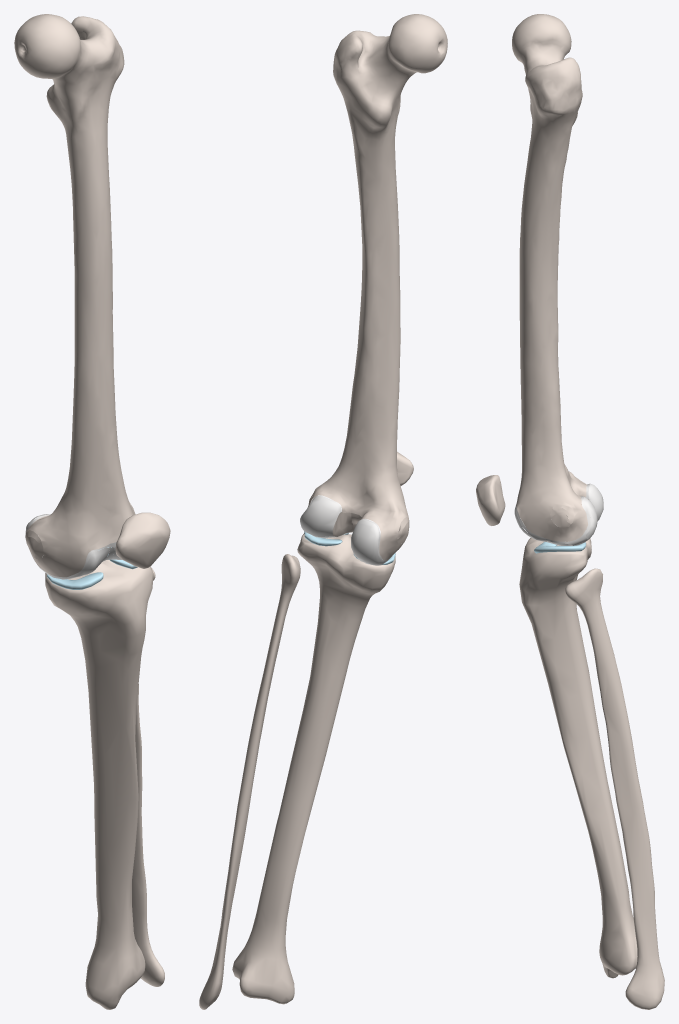
File: leg_l.glb
3 views of the same model, side by side, from view 1: azimuth 30°, elevation 25°; view 2: azimuth 150°, elevation 25°; view 3: azimuth 270°, elevation 25° (orthographic). The views are drawn at different scales.
Parts seen in each view (by area): view 1: VH_M_femur_L, VH_M_tibia_L, VH_M_fibula_L, VH_M_patella_L, VH_M_meniscus_L; view 2: VH_M_femur_L, VH_M_tibia_L, VH_M_fibula_L, VH_M_lateral_condyle_of_femur_inf_L, VH_M_medial_condyle_of_left_femur_inf; view 3: VH_M_femur_L, VH_M_tibia_L, VH_M_fibula_L, VH_M_patella_L, VH_M_articular_cartilage_of_knee_L.
Boxes of the visible parts, x1,y1,x2,y2 form: VH_M_femur_L: [14, 14, 135, 577]; VH_M_tibia_L: [45, 560, 153, 1009]; VH_M_fibula_L: [132, 568, 164, 986]; VH_M_patella_L: [115, 512, 170, 568]; VH_M_meniscus_L: [47, 547, 137, 589]; VH_M_femur_L: [308, 14, 447, 560]; VH_M_tibia_L: [232, 533, 395, 1004]; VH_M_fibula_L: [199, 554, 300, 1009]; VH_M_lateral_condyle_of_femur_inf_L: [300, 496, 340, 536]; VH_M_medial_condyle_of_left_femur_inf: [351, 519, 380, 564]; VH_M_femur_L: [512, 14, 587, 541]; VH_M_tibia_L: [519, 537, 637, 978]; VH_M_fibula_L: [565, 568, 664, 1009]; VH_M_patella_L: [476, 475, 505, 525]; VH_M_articular_cartilage_of_knee_L: [515, 483, 590, 545].
Bounding box in the file's own units: 0.1734 × 0.8875 × 0.1646.
